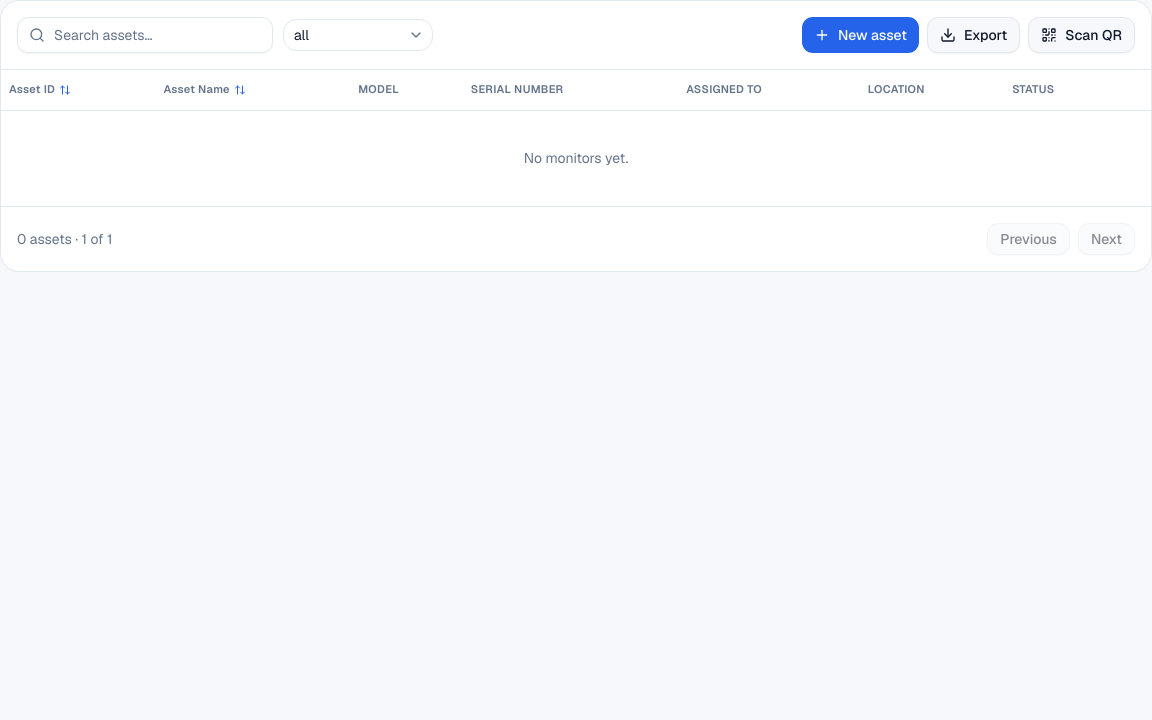
Test case: AssetTable write gate (New asset) › shows New asset for a writer and opens the dialog with the category type pre-selected
Click the button "New asset".
click(860, 35)  # box 802,17 -> 919,53
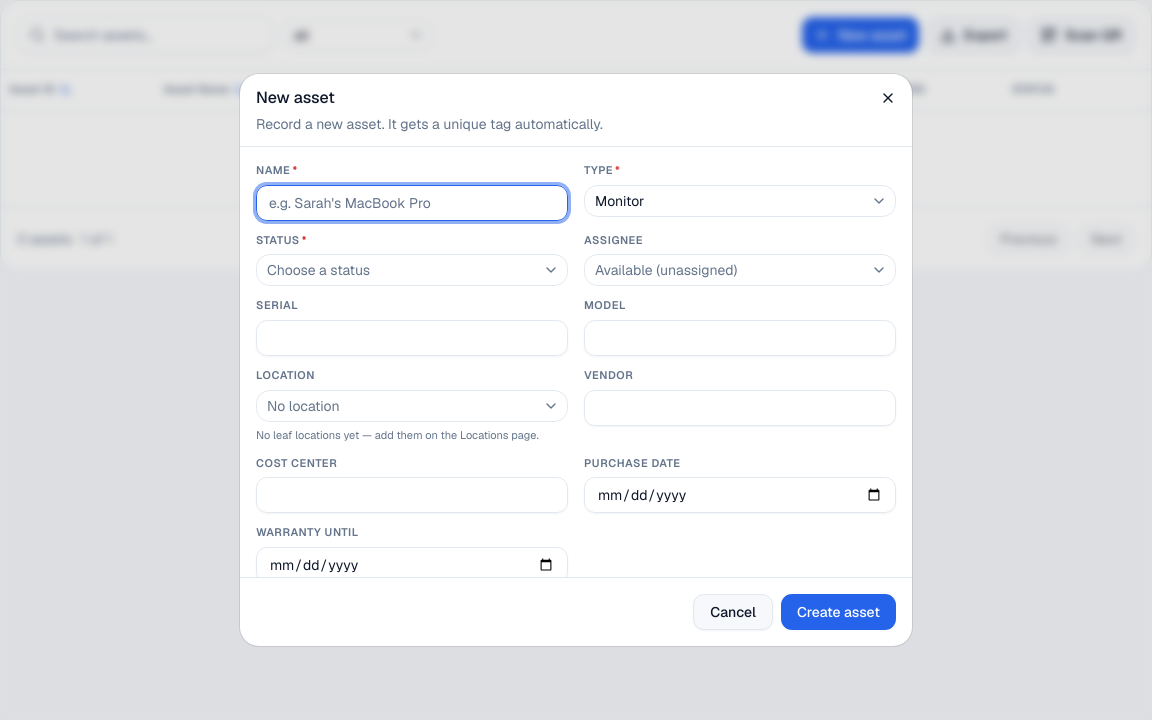
Expected: the button "Create asset" is shown, 781,594 -> 896,630
Expected: the text "Monitor" is shown, 595,192 -> 644,210
